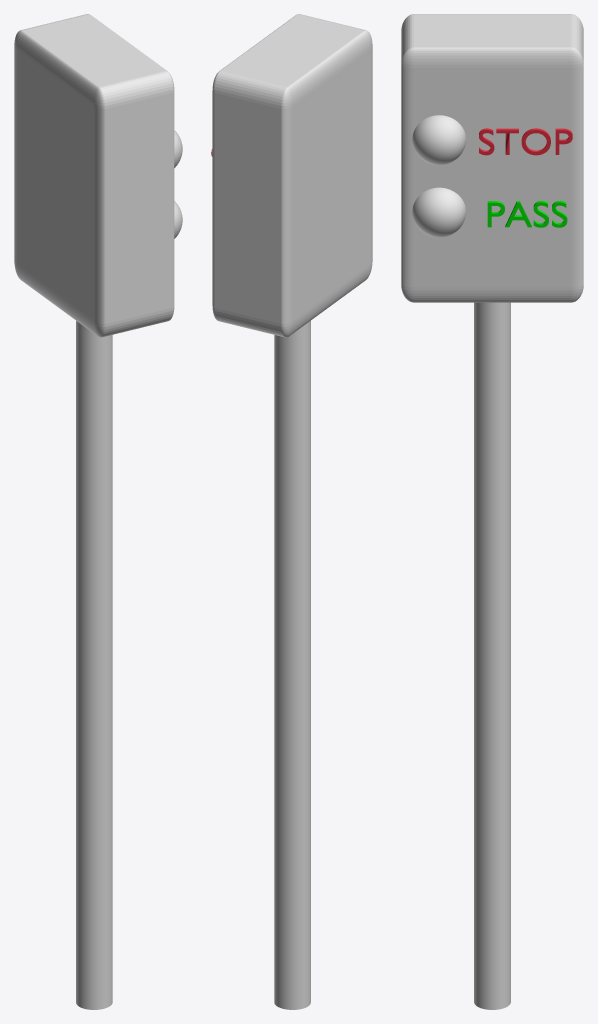
The model's file is PanneauEntreeVille.fbx.
3 renders of one model, left to right at view 1: azimuth 30°, elevation 25°; view 2: azimuth 150°, elevation 25°; view 3: azimuth 270°, elevation 25°, orthographic. The views are drawn at different scales.
Parts seen in each view (by area): view 1: Cube, Cylinder; view 2: Cube, Cylinder; view 3: Cube, Cylinder, Sphere pass, Sphere stop, STOP, PASS.
Part boxes in pixels (bbox=[...]): Cube: bbox=[14, 14, 174, 337]; Cylinder: bbox=[76, 321, 112, 1009]; Cube: bbox=[212, 14, 372, 337]; Cylinder: bbox=[274, 320, 310, 1009]; Cube: bbox=[401, 14, 583, 302]; Cylinder: bbox=[474, 302, 510, 1009]; Sphere pass: bbox=[412, 187, 466, 237]; Sphere stop: bbox=[412, 115, 466, 165]; STOP: bbox=[479, 128, 572, 155]; PASS: bbox=[487, 200, 567, 227].
Bounding box in the file's own units: 30.15 × 282 × 48.
